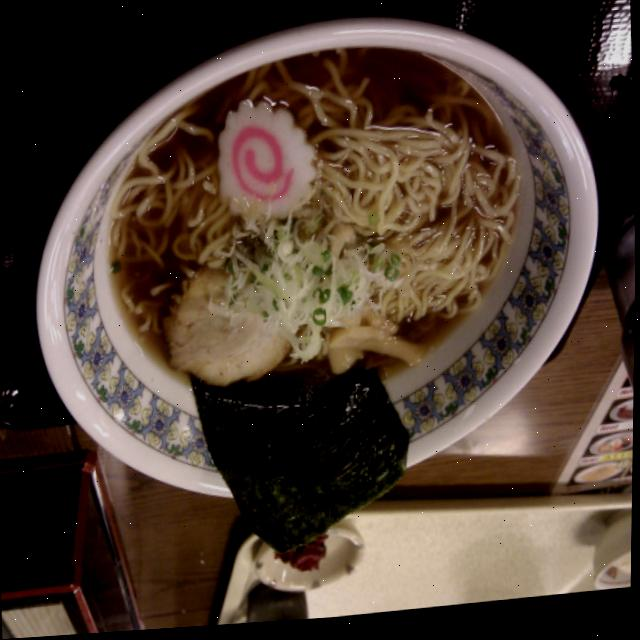面条主食: (38, 5, 619, 538)
